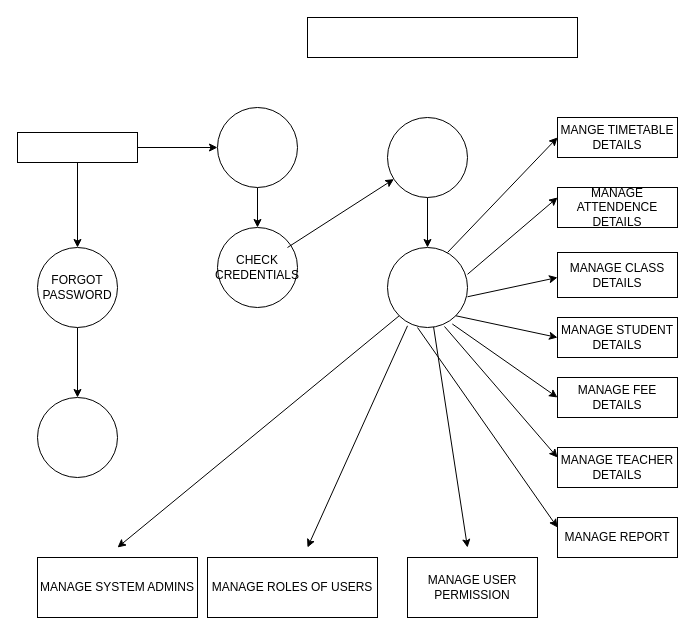
The diagram is 695 pixels wide and 635 high, and some of its shapes have lost their labels. Each missing label, with the box of its shape:
ADMIN: (16, 132, 138, 162)
CECK ROLES OF ACCESS: (386, 116, 468, 198)
LOGIN SYSTEM: (216, 106, 298, 188)
MANAGE MODULES: (386, 246, 468, 328)
SEND EMAIL TO USER: (36, 396, 118, 478)
STUDENT INFORMATION SYSTEM: (306, 16, 578, 58)
